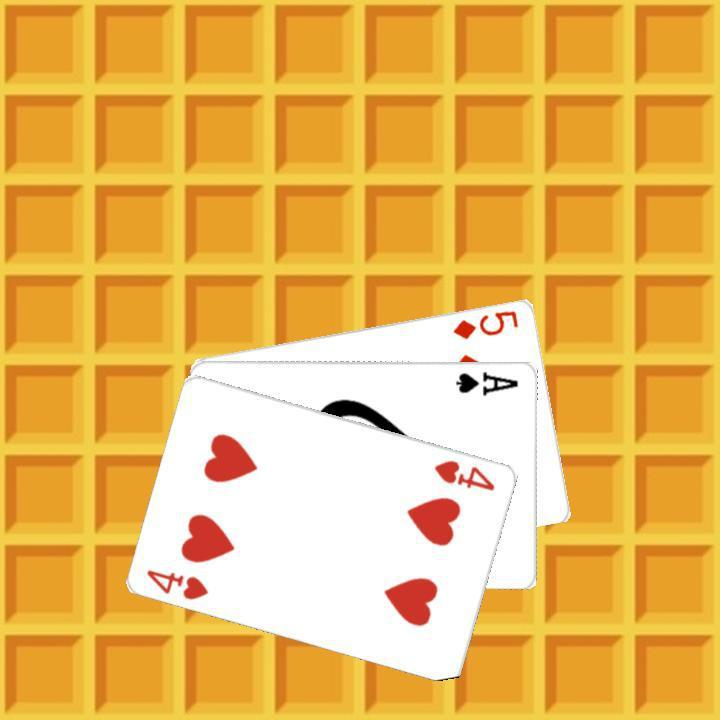4: (430, 455, 498, 493), (143, 565, 211, 602)
5: (449, 305, 521, 341)
A: (452, 366, 521, 397)
